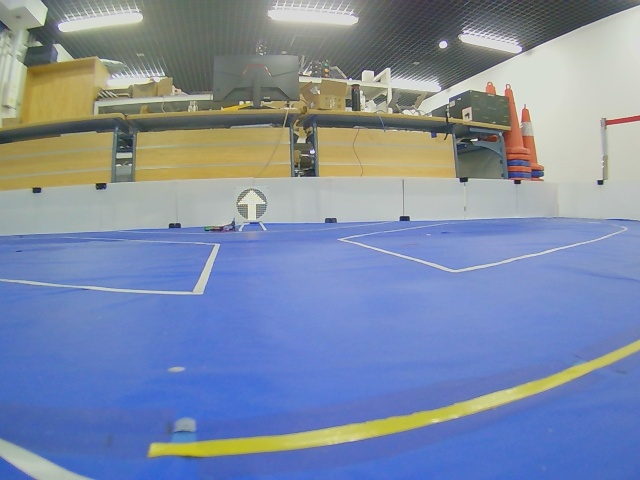straight_yellow: (236, 188, 268, 222)
